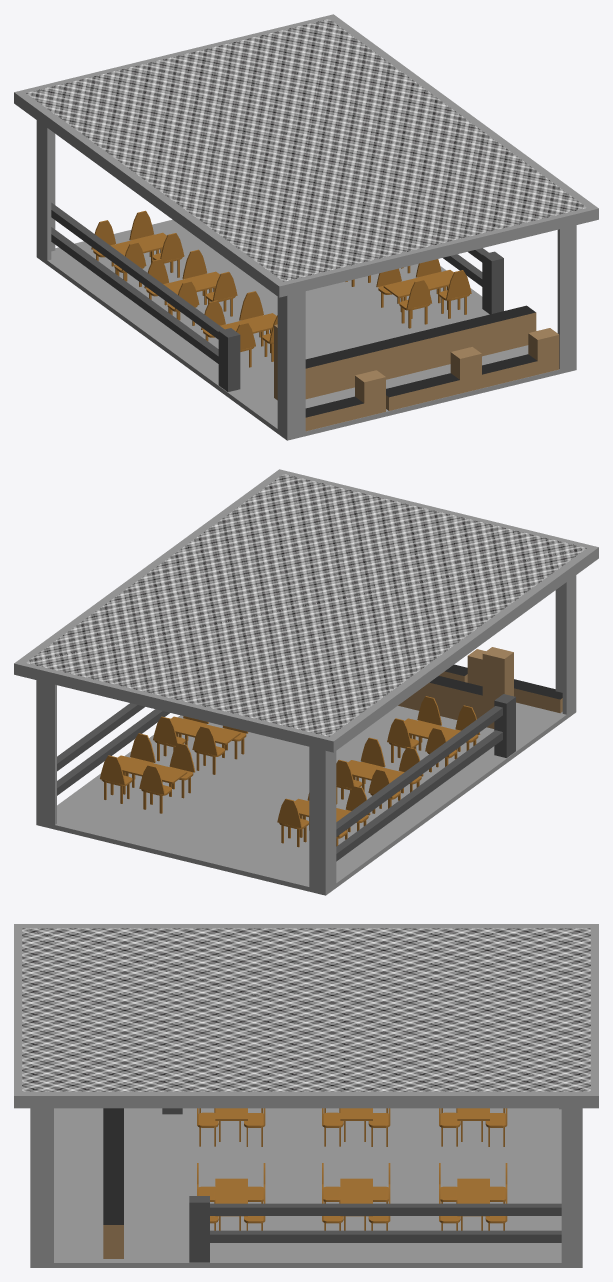
The model's file is coffee station.glb.
3 renders of one model, top to bottom at view 1: azimuth 30°, elevation 25°; view 2: azimuth 150°, elevation 25°; view 3: azimuth 270°, elevation 25°, orthographic. The views are drawn at different scales.
Parts seen in each view (by area): view 1: pCube43; view 2: pCube43; view 3: pCube43.
Boxes of the visible parts, <box> form: pCube43: <box>14,14,598,440</box>; pCube43: <box>14,469,598,895</box>; pCube43: <box>14,924,598,1267</box>.
Size of the model in its own units: 7.79 by 3.81 by 11.2.
Materials: 6 (1 with a texture image).
